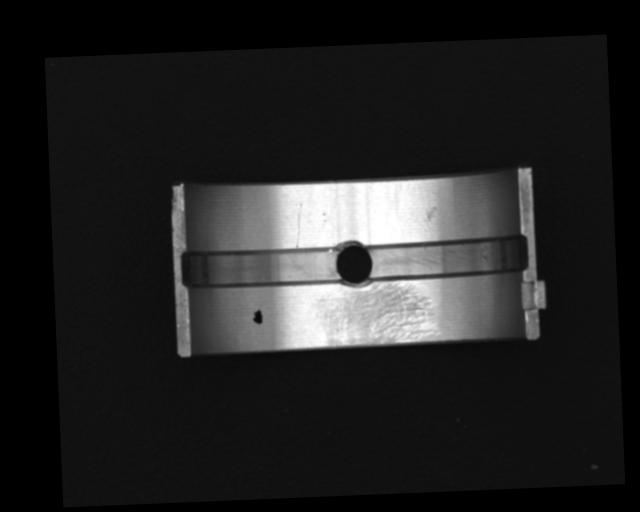blot: (251, 308, 264, 325)
bruise: (424, 205, 439, 221)
gap: (364, 235, 530, 282), (181, 245, 341, 291)
hole: (333, 236, 373, 290)
nick: (294, 210, 303, 248)
scratch: (313, 280, 439, 347)
